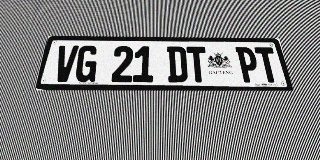1: (133, 46, 153, 82)
2: (111, 46, 133, 82)
D: (167, 46, 188, 82)
G: (74, 45, 99, 82)
P: (235, 47, 261, 83)
T: (254, 47, 281, 83), (186, 47, 209, 82)
V: (52, 45, 79, 82)
